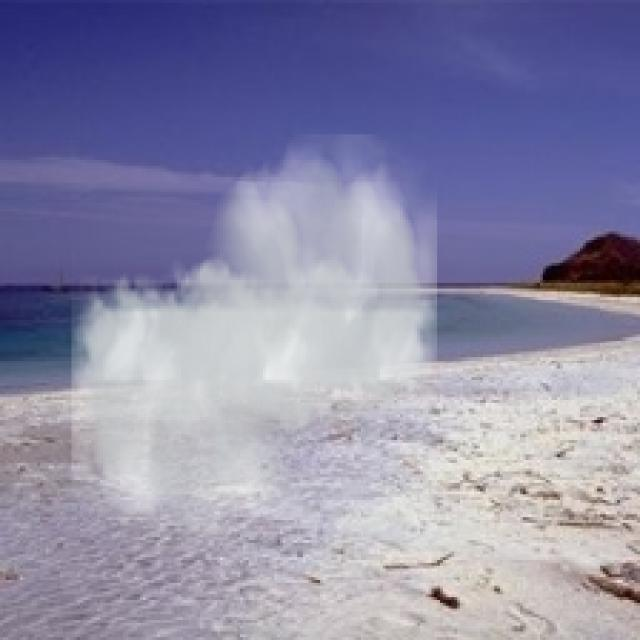smoke: (72, 134, 437, 557)
